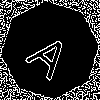A: (25, 25, 81, 82)
